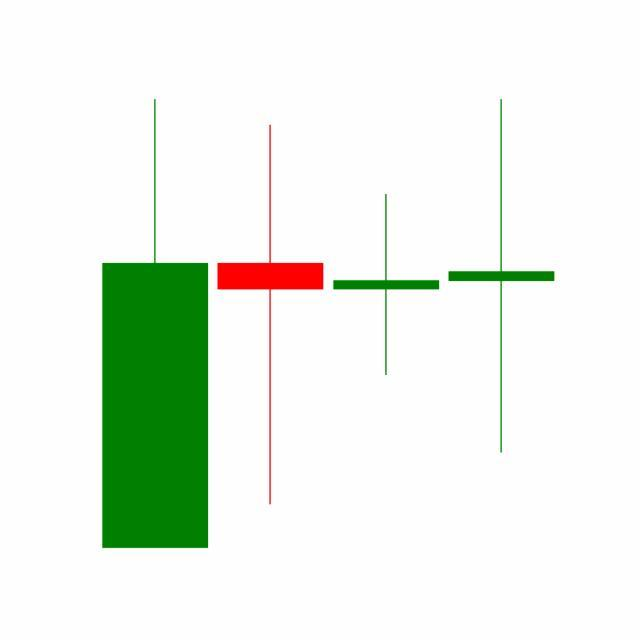Spinning Top: (444, 95, 560, 457)
